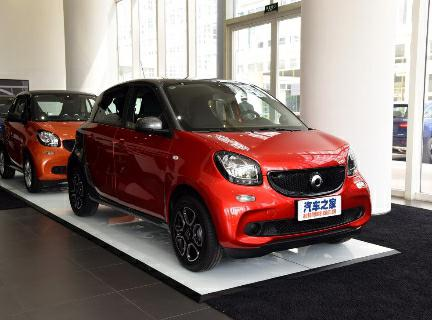smart-forfour: (72, 72, 376, 269)
